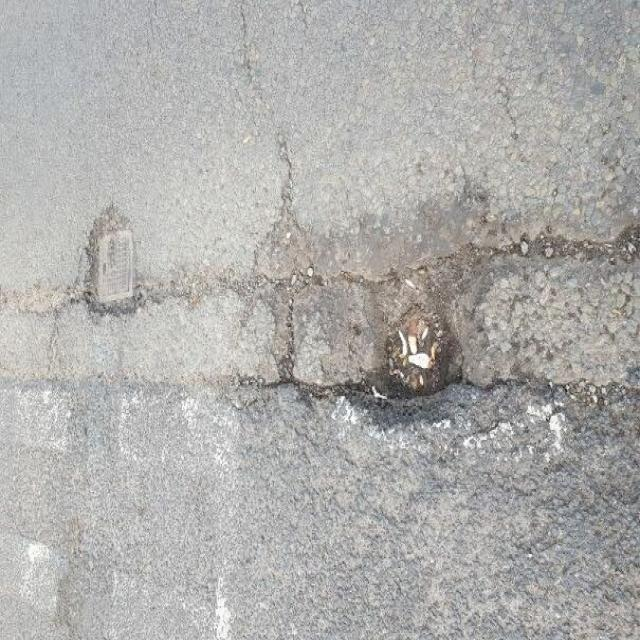Pothole: (260, 233, 535, 433)
